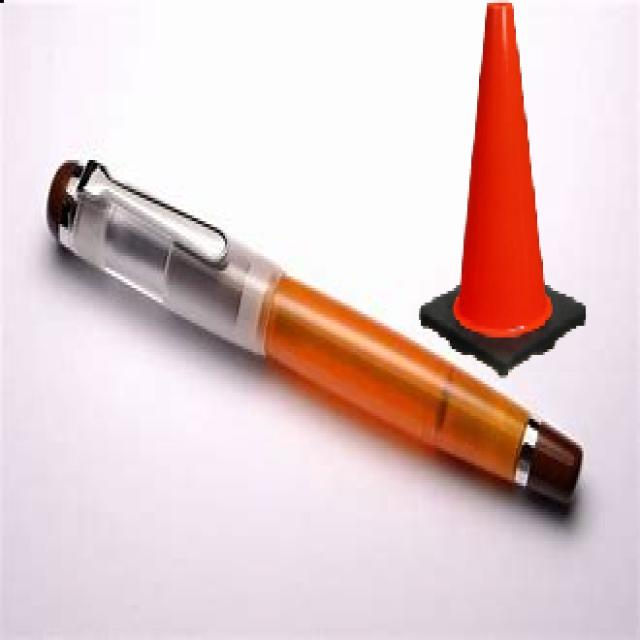traffic cone: (415, 4, 590, 386)
